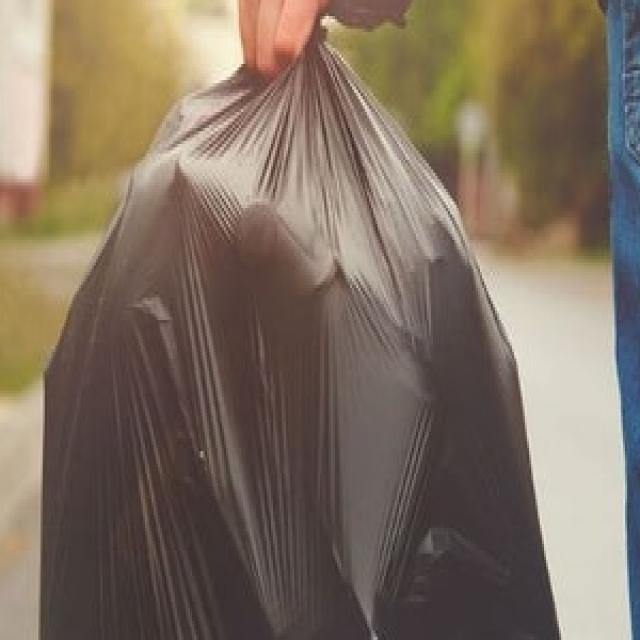Trashbag: (30, 66, 561, 640)
